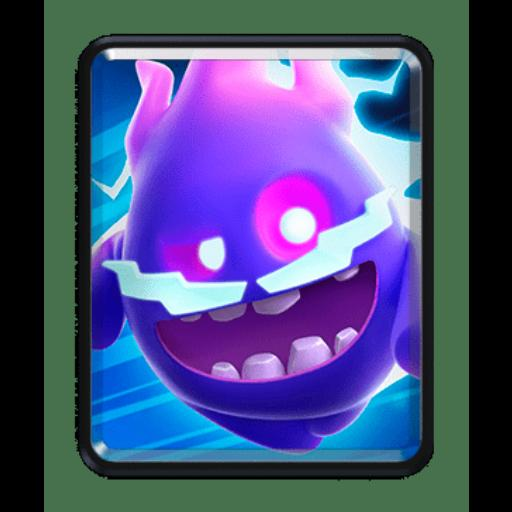electro-spirit: (91, 54, 413, 454)
